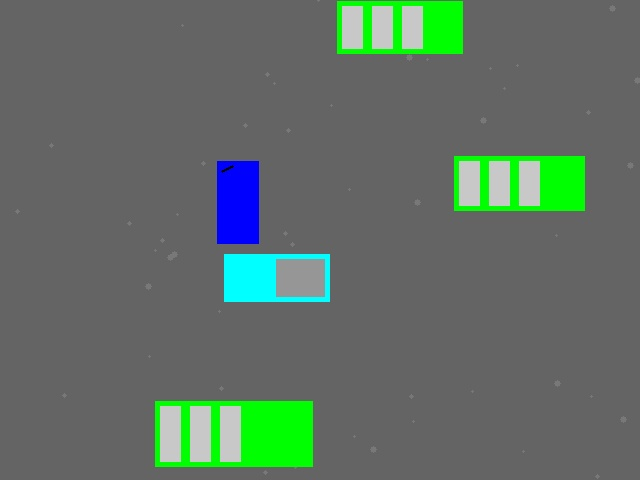bus: (155, 401, 312, 466), (454, 156, 584, 210), (337, 1, 462, 53)
motorcycle: (217, 161, 258, 243)
truck: (224, 254, 329, 301)
